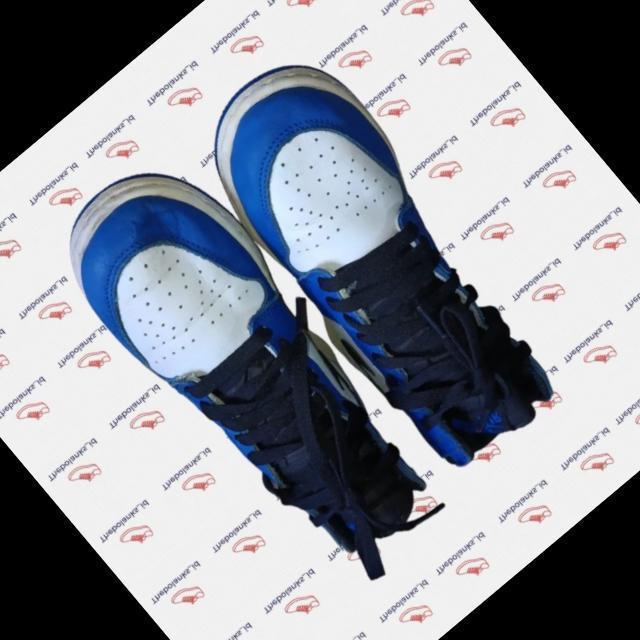nike fake jordan 1: (160, 31, 601, 506), (35, 128, 468, 597)
